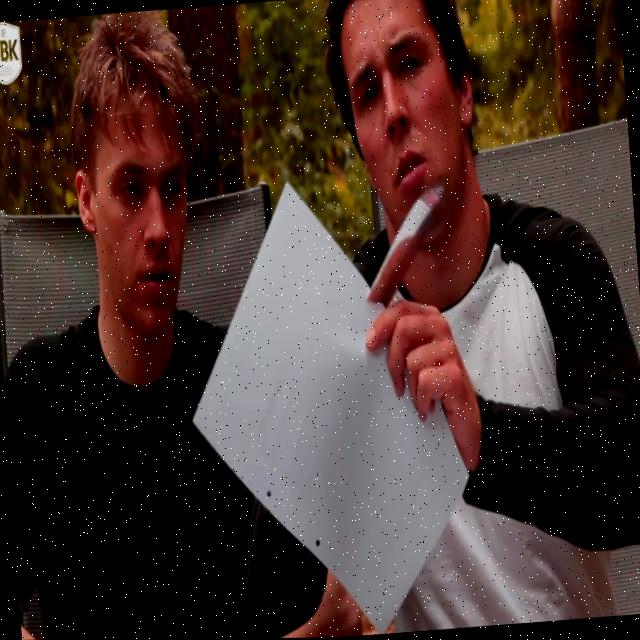knife: (347, 174, 466, 314)
